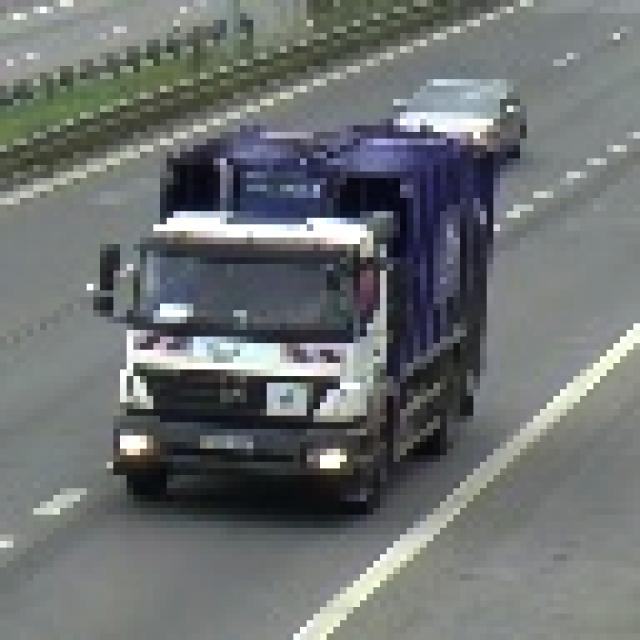truck: (88, 120, 494, 489)
